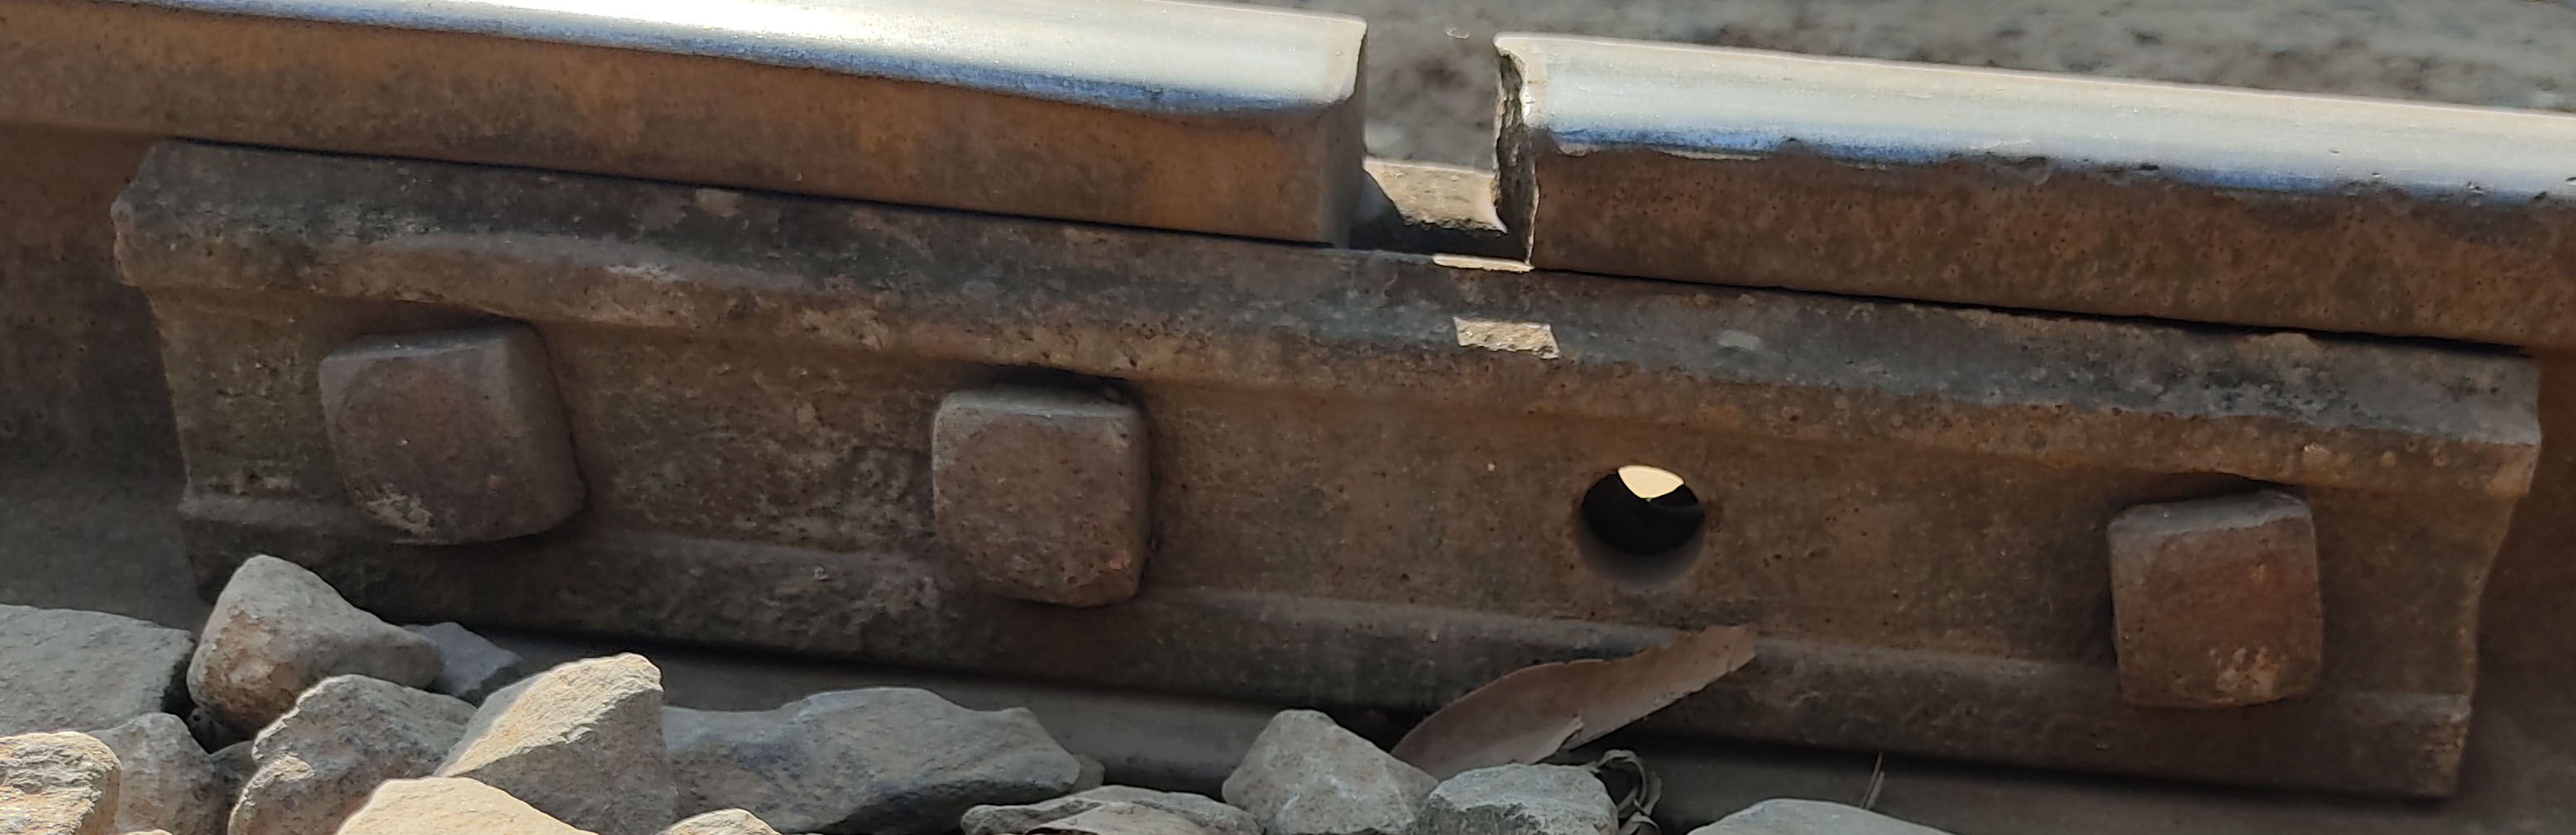error2: (1291, 23, 1590, 301)
